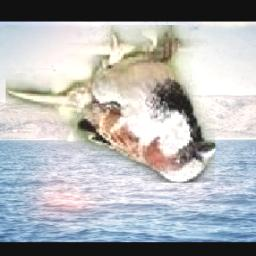Sparrow: (7, 26, 216, 184)
